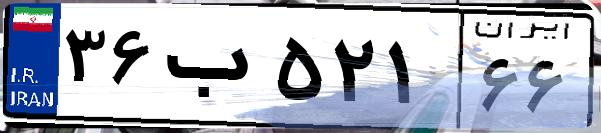1: (385, 28, 445, 110)
2: (330, 28, 385, 110)
3: (57, 26, 110, 100)
5: (270, 28, 330, 110)
6: (475, 38, 525, 113), (525, 38, 570, 115), (110, 28, 158, 98)
ب: (158, 20, 270, 120)
